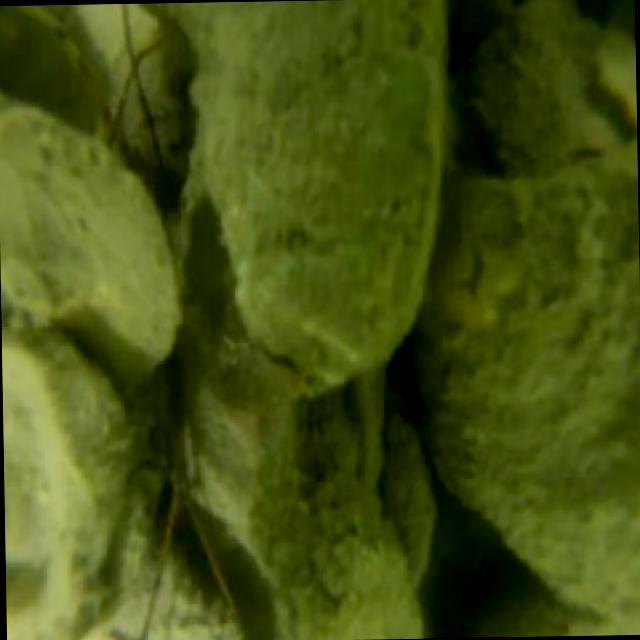Oyster-Closed: (421, 150, 640, 620), (200, 0, 445, 371), (190, 352, 407, 626), (0, 104, 182, 374), (2, 327, 145, 612), (455, 0, 628, 171)
